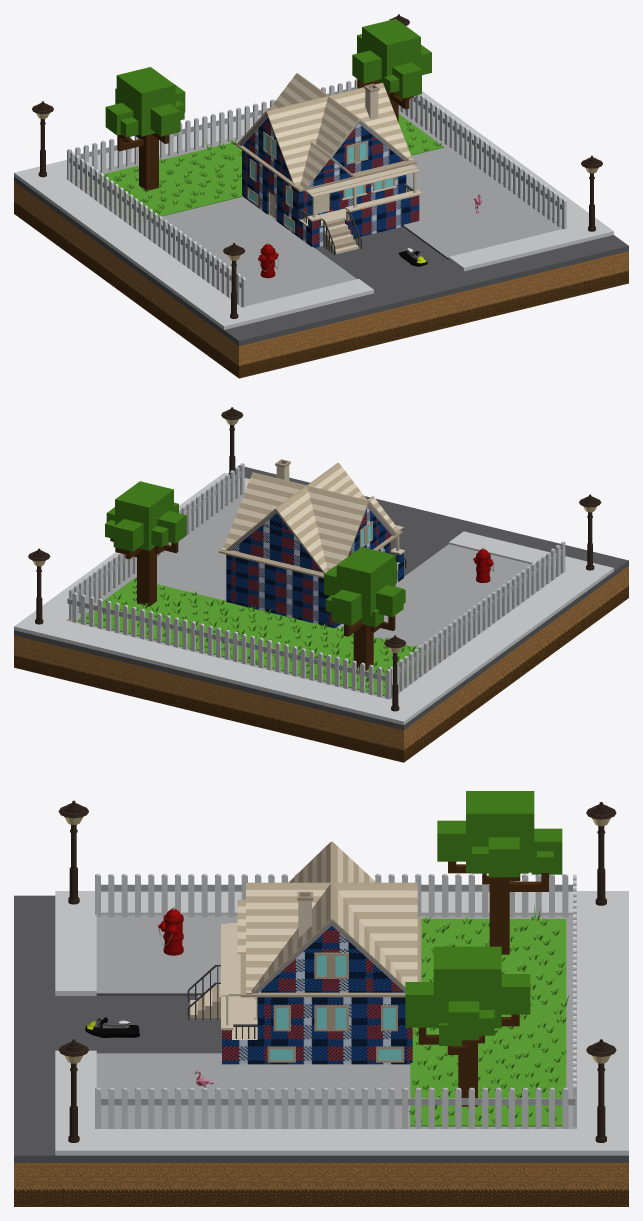
The picture shows the model from 3 angles, top to bottom: view 1: azimuth 30°, elevation 25°; view 2: azimuth 150°, elevation 25°; view 3: azimuth 270°, elevation 25°; orthographic projection. The views are drawn at different scales.
Visible parts, largest first — view 1: Cube.004, Cube.171, OBJRANDOM_FIRE_HYDRANT; view 2: Cube.004, Cube.171, OBJRANDOM_FIRE_HYDRANT; view 3: Cube.004, Cube.171, OBJRANDOM_FIRE_HYDRANT, VEHICLES_WATERBIKE.
Part boxes in pixels (x1=…): Cube.004: x1=14, y1=14, x2=628, y2=378; Cube.171: x1=233, y1=73, x2=422, y2=255; OBJRANDOM_FIRE_HYDRANT: x1=258, y1=243, x2=278, y2=278; Cube.004: x1=14, y1=407, x2=628, y2=762; Cube.171: x1=218, y1=459, x2=406, y2=627; OBJRANDOM_FIRE_HYDRANT: x1=473, y1=547, x2=493, y2=582; Cube.004: x1=14, y1=791, x2=628, y2=1206; Cube.171: x1=187, y1=841, x2=421, y2=1064; OBJRANDOM_FIRE_HYDRANT: x1=158, y1=907, x2=183, y2=955; VEHICLES_WATERBIKE: x1=85, y1=1017, x2=139, y2=1037.
Bounding box in the file's own units: 4000 × 1579 × 4000.
Materials: 30 (4 with a texture image).
